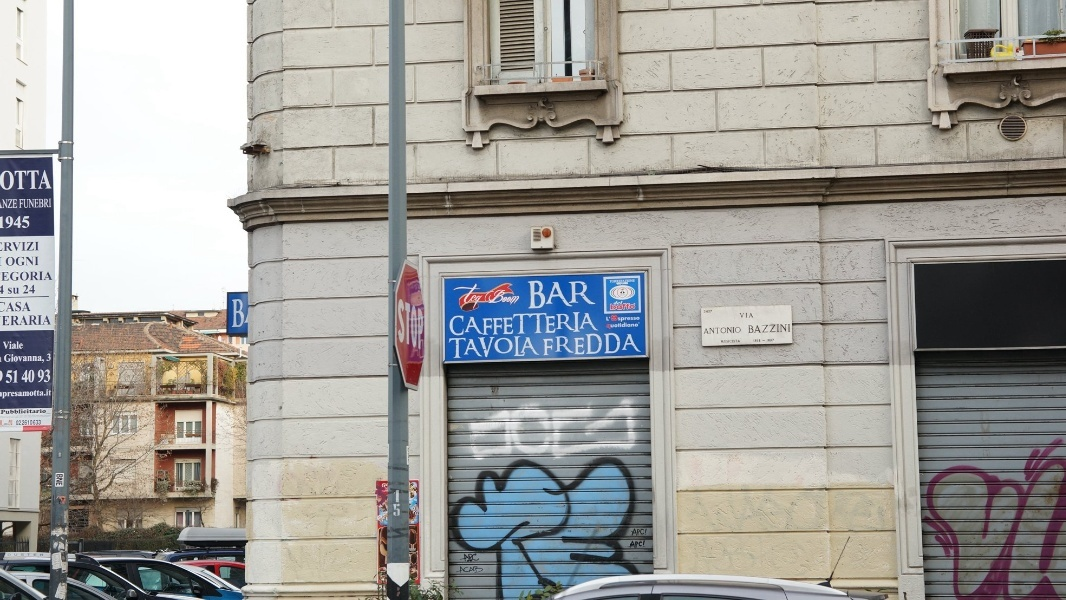text: (401, 297, 416, 356), (417, 297, 426, 356), (529, 280, 544, 312), (545, 280, 560, 312), (561, 280, 576, 312), (577, 280, 592, 312), (449, 333, 464, 359), (465, 333, 480, 359), (481, 333, 496, 359), (497, 333, 512, 359), (513, 333, 528, 359), (529, 333, 544, 359), (545, 333, 560, 359), (561, 333, 576, 359), (577, 333, 592, 359), (593, 333, 608, 359), (609, 333, 624, 359), (625, 333, 640, 359), (465, 312, 480, 337), (481, 312, 496, 337), (497, 312, 512, 337), (513, 312, 528, 337), (529, 312, 544, 337), (545, 312, 560, 337), (561, 312, 576, 337), (577, 312, 592, 337), (450, 312, 464, 337), (1, 170, 16, 192), (17, 170, 32, 192), (33, 170, 48, 192), (497, 289, 512, 309), (231, 298, 240, 329), (17, 215, 32, 231), (593, 280, 600, 312), (472, 283, 480, 311), (17, 313, 32, 327), (33, 313, 48, 327), (513, 289, 523, 309), (2, 313, 16, 327), (17, 351, 32, 364), (33, 351, 48, 364), (1, 270, 16, 283), (17, 270, 32, 283), (33, 270, 48, 283), (37, 367, 48, 384), (17, 301, 32, 313), (17, 256, 32, 268), (33, 197, 48, 209), (5, 215, 16, 231), (593, 312, 600, 337), (3, 351, 16, 364), (481, 283, 487, 311), (2, 198, 16, 210), (18, 197, 32, 209), (1, 389, 16, 400), (17, 389, 32, 400), (33, 389, 48, 400), (21, 369, 32, 384), (17, 241, 32, 252), (609, 301, 624, 311), (609, 313, 624, 323), (625, 313, 640, 323), (753, 324, 768, 334), (769, 324, 784, 334), (6, 369, 16, 384), (465, 566, 480, 576), (465, 553, 480, 563), (395, 489, 400, 518), (705, 326, 720, 335), (721, 326, 736, 335), (4, 241, 16, 252), (2, 341, 16, 350), (241, 298, 245, 329), (609, 322, 624, 330), (6, 256, 16, 268), (398, 297, 400, 356), (738, 313, 752, 321), (625, 322, 639, 330), (625, 301, 636, 311), (49, 170, 54, 192), (17, 419, 32, 426), (56, 474, 64, 487), (23, 284, 32, 295), (610, 278, 624, 285), (33, 256, 41, 268), (1, 409, 16, 415), (17, 409, 32, 415), (33, 409, 48, 415), (33, 241, 41, 252), (9, 301, 16, 313), (632, 540, 640, 550), (49, 270, 55, 283), (625, 278, 636, 285), (721, 339, 736, 344), (8, 286, 16, 295), (632, 528, 640, 537), (49, 389, 55, 400), (33, 419, 42, 426), (17, 341, 24, 350), (641, 528, 648, 537), (785, 324, 791, 334), (17, 369, 21, 384), (458, 566, 464, 576), (49, 313, 53, 327), (737, 326, 743, 335), (641, 333, 643, 359), (49, 367, 52, 384), (747, 324, 752, 334), (641, 540, 646, 550), (49, 197, 53, 209), (753, 339, 768, 342), (33, 369, 36, 384), (705, 309, 713, 314), (481, 566, 485, 576), (49, 351, 52, 364), (17, 286, 21, 295), (33, 284, 36, 295), (753, 313, 757, 321), (769, 339, 776, 342), (495, 289, 496, 309), (606, 313, 608, 323), (737, 339, 741, 344), (481, 553, 483, 563), (606, 322, 608, 330), (17, 198, 18, 210), (463, 553, 464, 563)
